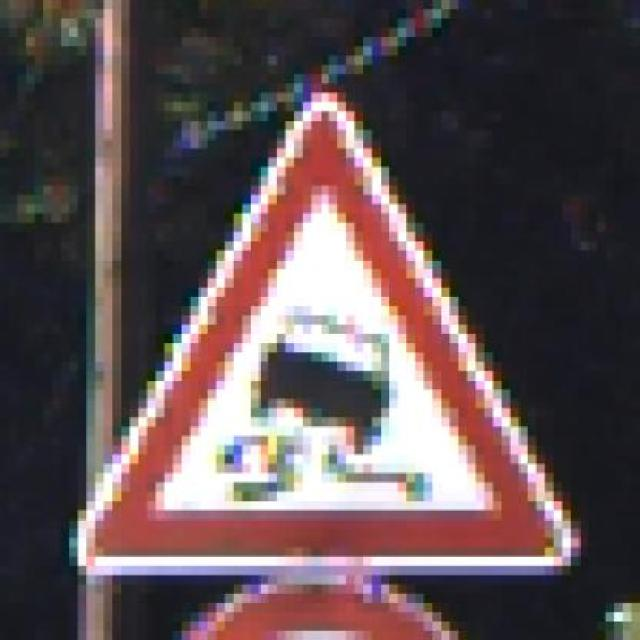Slippery Road Ahead: (60, 74, 580, 575)
